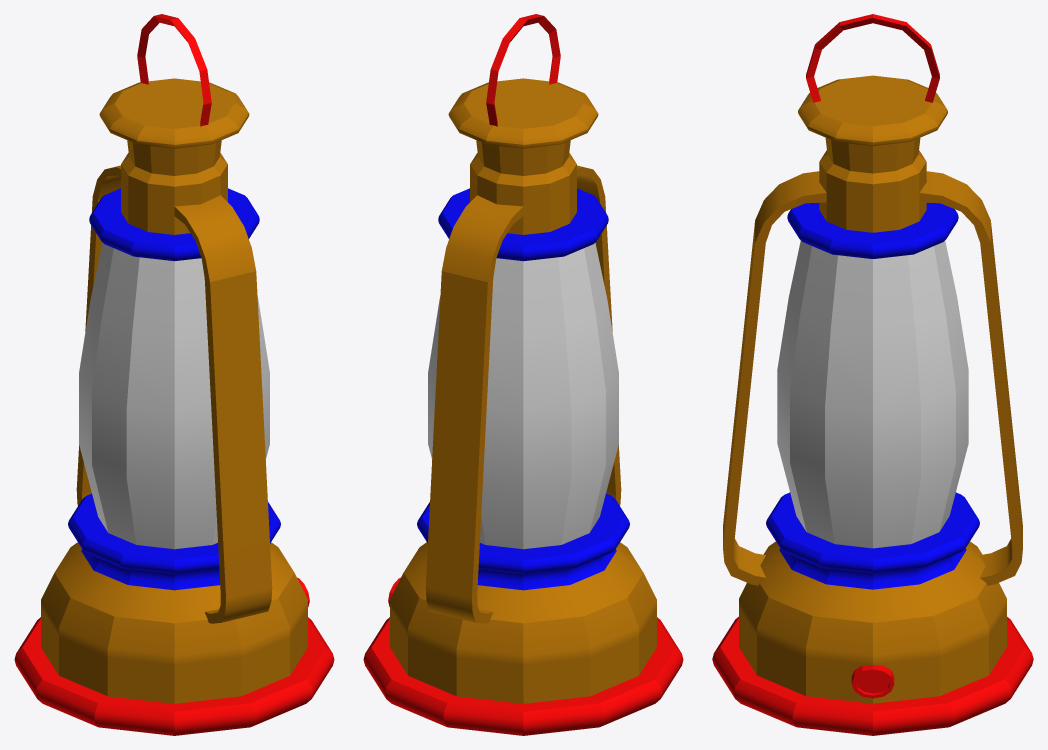
The model's file is Lamp.fbx.
3 renders of one model, left to right at view 1: azimuth 30°, elevation 25°; view 2: azimuth 150°, elevation 25°; view 3: azimuth 270°, elevation 25°, orthographic.
Visible parts, largest first — view 1: Lamp; view 2: Lamp; view 3: Lamp.
Part boxes in pixels (bbox=[...]): Lamp: bbox=[14, 14, 334, 735]; Lamp: bbox=[363, 14, 683, 735]; Lamp: bbox=[712, 14, 1033, 735].
Size of the model in its own units: 30 by 67.5 by 30.
